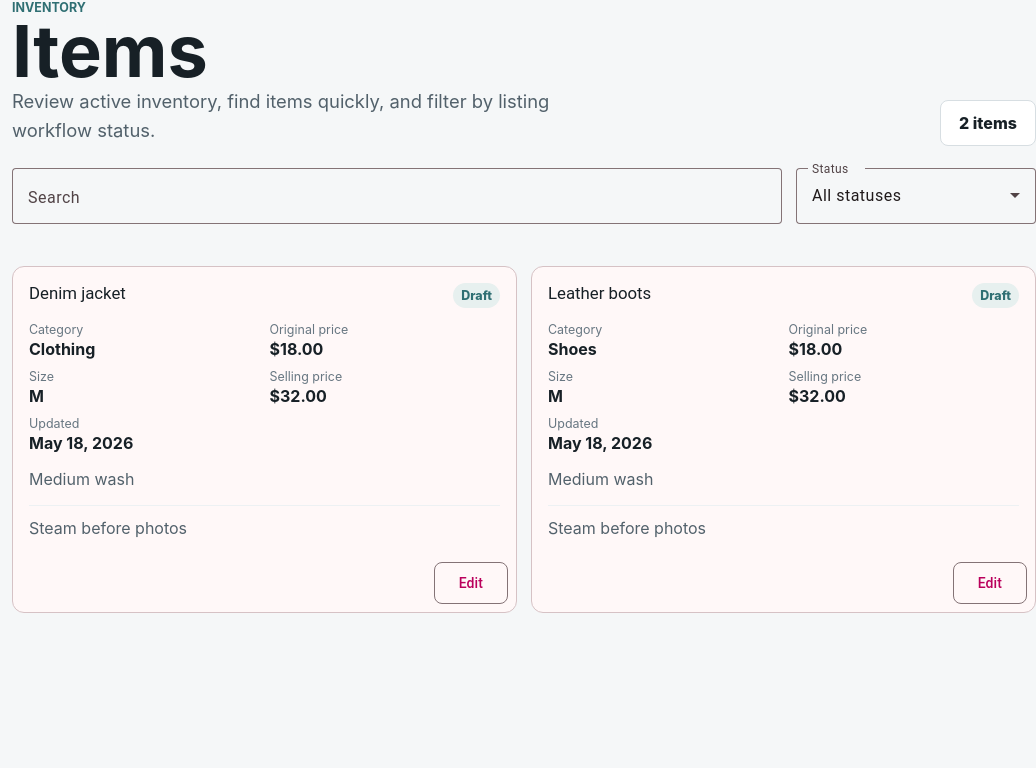
Test: InventoryPageComponent › filters loaded items by search text
Type "boots" into the search field with test id "inventory-search" at (397, 196), box [28,184,766,208]
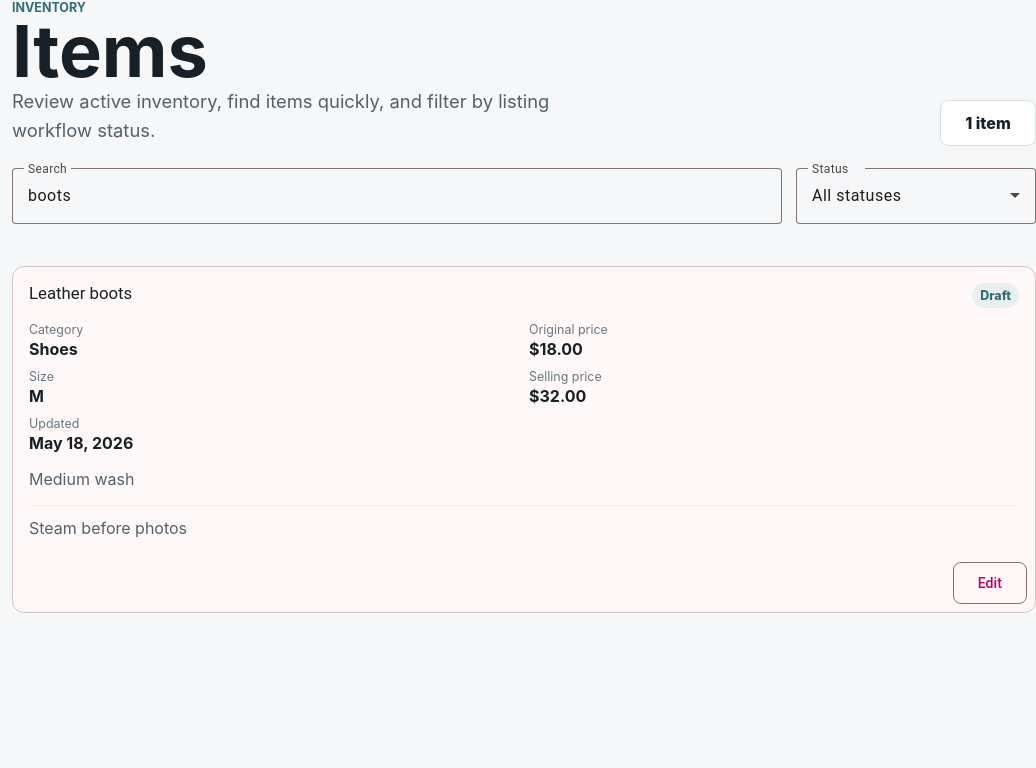
Expected: the text "Leather boots" is shown, [29,283,132,304]
Now the text "Denim jacket" is gone
